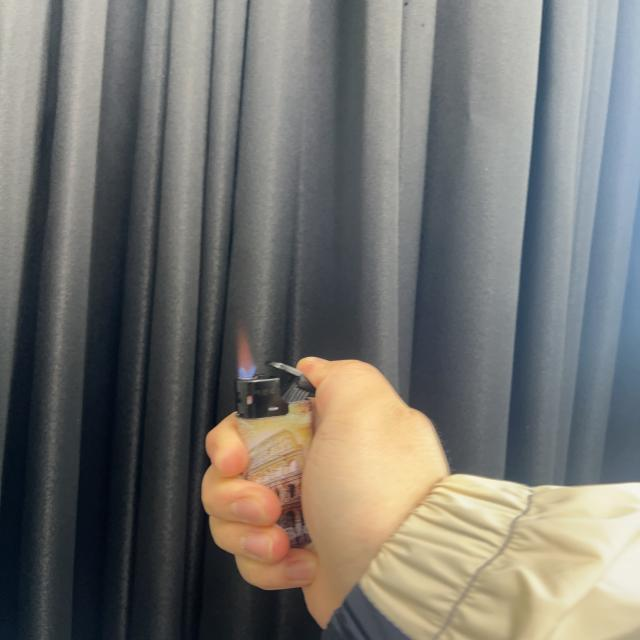fire: (232, 326, 258, 378)
